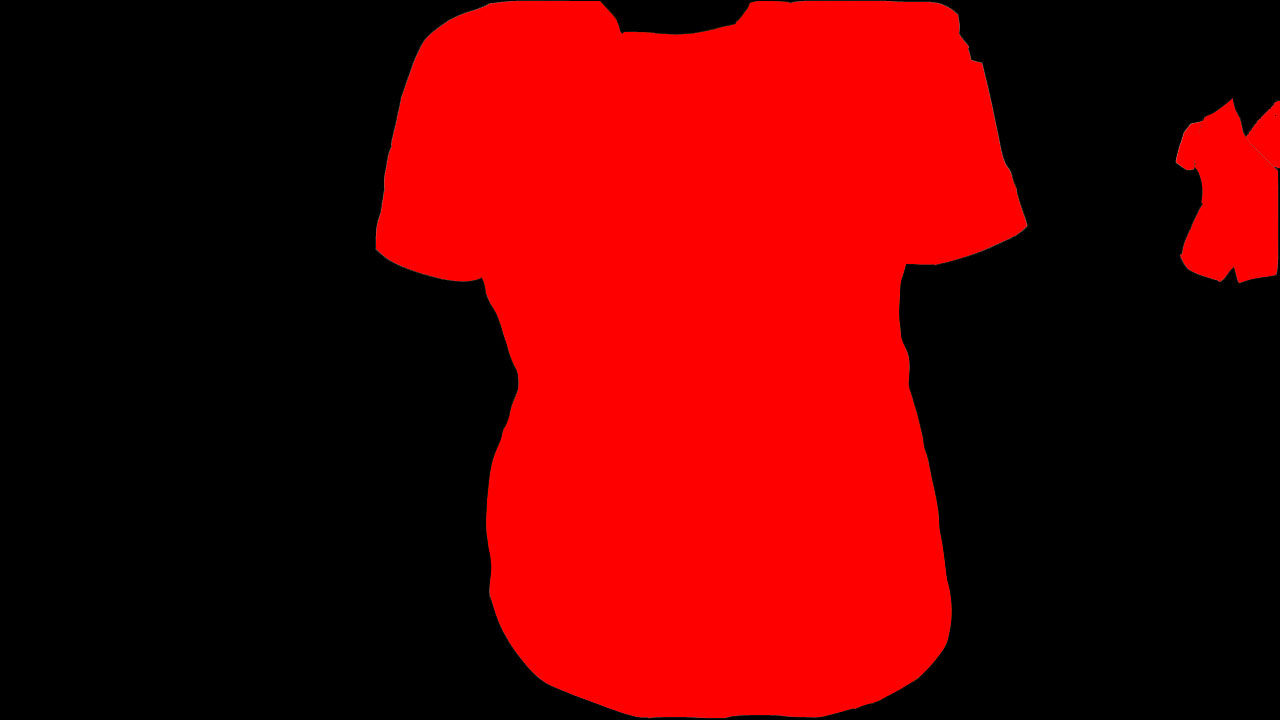uniforme_ifmt: (376, 3, 1033, 720), (1179, 98, 1280, 285)
